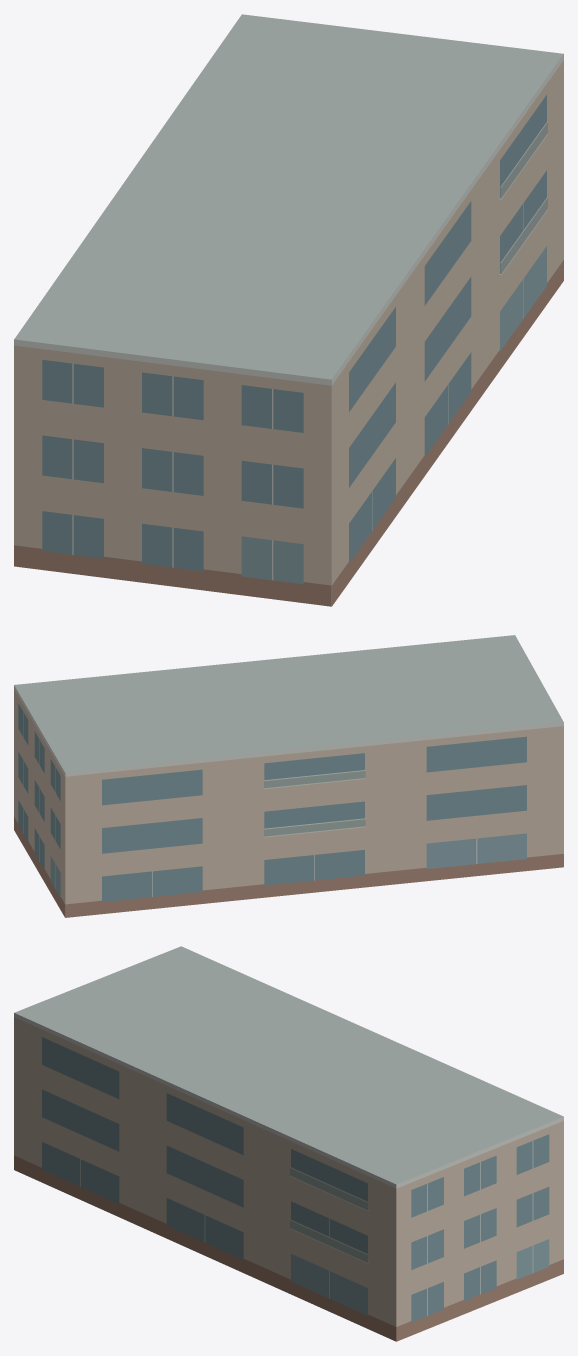
The model's file is survey-upis-32655067.glb.
The picture shows the model from 3 angles, top to bottom: view 1: azimuth 30°, elevation 25°; view 2: azimuth 150°, elevation 25°; view 3: azimuth 270°, elevation 25°; orthographic projection. The views are drawn at different scales.
Visible parts, largest first — view 1: survey-upis-32655067.tmp; view 2: survey-upis-32655067.tmp; view 3: survey-upis-32655067.tmp.
Part boxes in pixels (box(x1,y1,x2,y2)): survey-upis-32655067.tmp: box(14, 14, 563, 606); survey-upis-32655067.tmp: box(14, 635, 563, 917); survey-upis-32655067.tmp: box(14, 946, 563, 1341).
Bounding box in the file's own units: 29.75 × 9.15 × 29.01.
